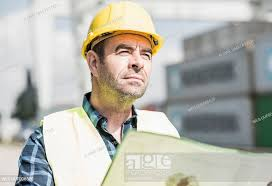Person_wearing_helmet: (80, 0, 163, 62)
